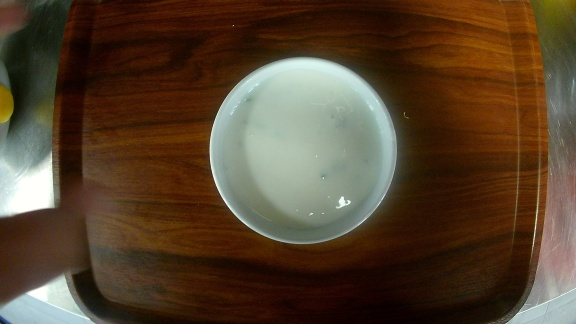cacik: (210, 56, 399, 246)
